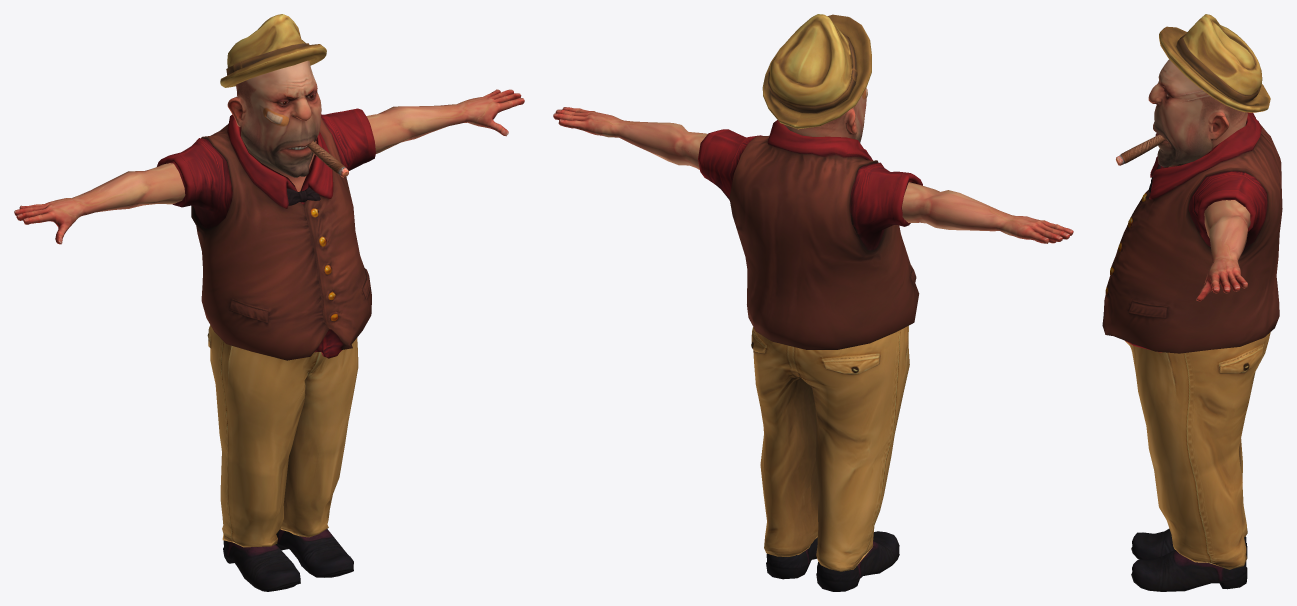
Rendered from boss_nobone.glb.
3 views of the same model, side by side, from view 1: azimuth 30°, elevation 25°; view 2: azimuth 150°, elevation 25°; view 3: azimuth 270°, elevation 25° (orthographic).
Parts seen in each view (by area): view 1: mixamorig:Jacket_Geo, mixamorig:Pants_Geo, mixamorig:Arms_Geo, mixamorig:Head_Geo, mixamorig:Shoes_Geo, mixamorig:Hat_Geo; view 2: mixamorig:Jacket_Geo, mixamorig:Pants_Geo, mixamorig:Hat_Geo, mixamorig:Arms_Geo, mixamorig:Shoes_Geo, mixamorig:Head_Geo; view 3: mixamorig:Jacket_Geo, mixamorig:Pants_Geo, mixamorig:Hat_Geo, mixamorig:Head_Geo, mixamorig:Shoes_Geo, mixamorig:Arms_Geo, mixamorig:Cigar_Geo.
Boxes of the visible parts, bbox=[...] form: mixamorig:Jacket_Geo: bbox=[157, 108, 375, 360]; mixamorig:Pants_Geo: bbox=[207, 325, 358, 547]; mixamorig:Arms_Geo: bbox=[14, 89, 524, 244]; mixamorig:Head_Geo: bbox=[227, 60, 321, 191]; mixamorig:Shoes_Geo: bbox=[223, 529, 353, 591]; mixamorig:Hat_Geo: bbox=[220, 14, 326, 87]; mixamorig:Jacket_Geo: bbox=[698, 120, 922, 349]; mixamorig:Pants_Geo: bbox=[751, 325, 909, 571]; mixamorig:Hat_Geo: bbox=[762, 14, 871, 129]; mixamorig:Arms_Geo: bbox=[553, 107, 1073, 243]; mixamorig:Shoes_Geo: bbox=[766, 531, 899, 591]; mixamorig:Head_Geo: bbox=[784, 88, 867, 142]; mixamorig:Jacket_Geo: bbox=[1102, 112, 1282, 353]; mixamorig:Pants_Geo: bbox=[1125, 332, 1270, 569]; mixamorig:Hat_Geo: bbox=[1159, 14, 1270, 112]; mixamorig:Head_Geo: bbox=[1148, 59, 1247, 167]; mixamorig:Shoes_Geo: bbox=[1131, 528, 1247, 591]; mixamorig:Arms_Geo: bbox=[1196, 200, 1250, 301]; mixamorig:Cigar_Geo: bbox=[1116, 134, 1165, 165].
Size of the model in its own units: 193 by 199 by 58.78.
6 materials, 6 textured.
